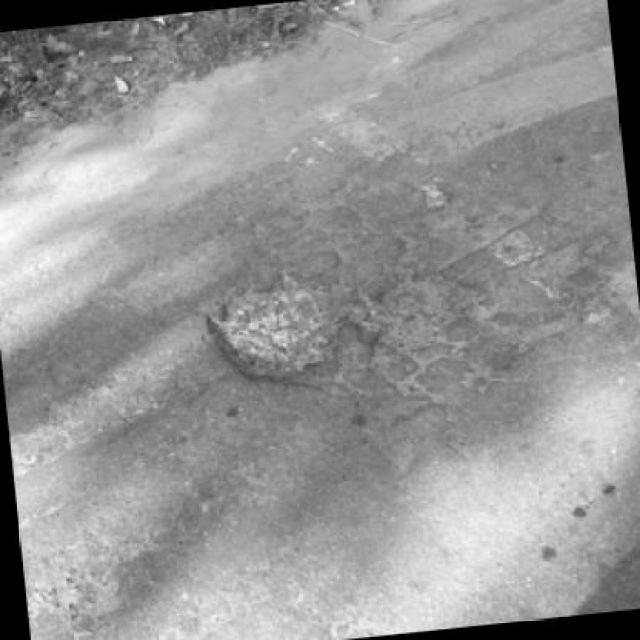pothole: (197, 266, 355, 394), (348, 264, 495, 361)
